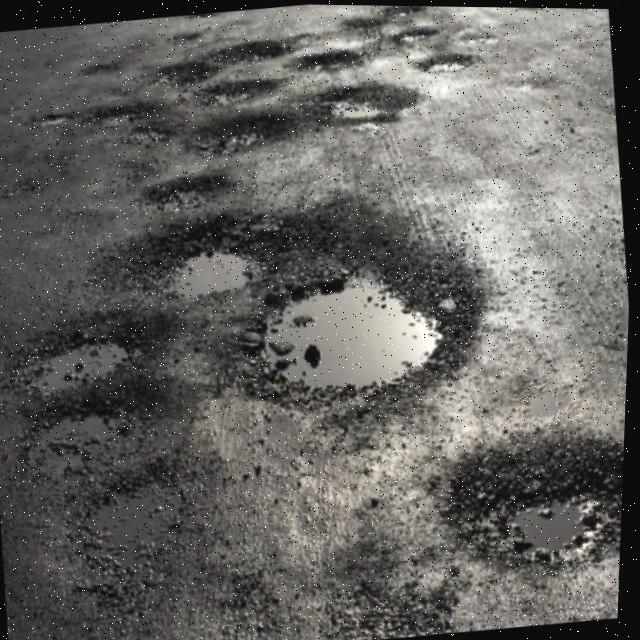Pothole: (242, 252, 489, 408), (465, 428, 628, 582), (4, 366, 167, 497), (66, 462, 197, 589), (138, 222, 288, 310), (15, 328, 139, 409), (139, 164, 229, 222), (308, 76, 406, 128), (200, 21, 291, 77), (189, 113, 287, 156), (192, 74, 280, 114), (286, 39, 371, 78), (150, 57, 215, 92), (337, 8, 385, 46), (130, 120, 179, 152), (419, 46, 466, 76), (23, 104, 74, 131), (85, 103, 130, 133), (397, 24, 434, 49), (379, 4, 422, 25), (520, 6, 564, 18)
